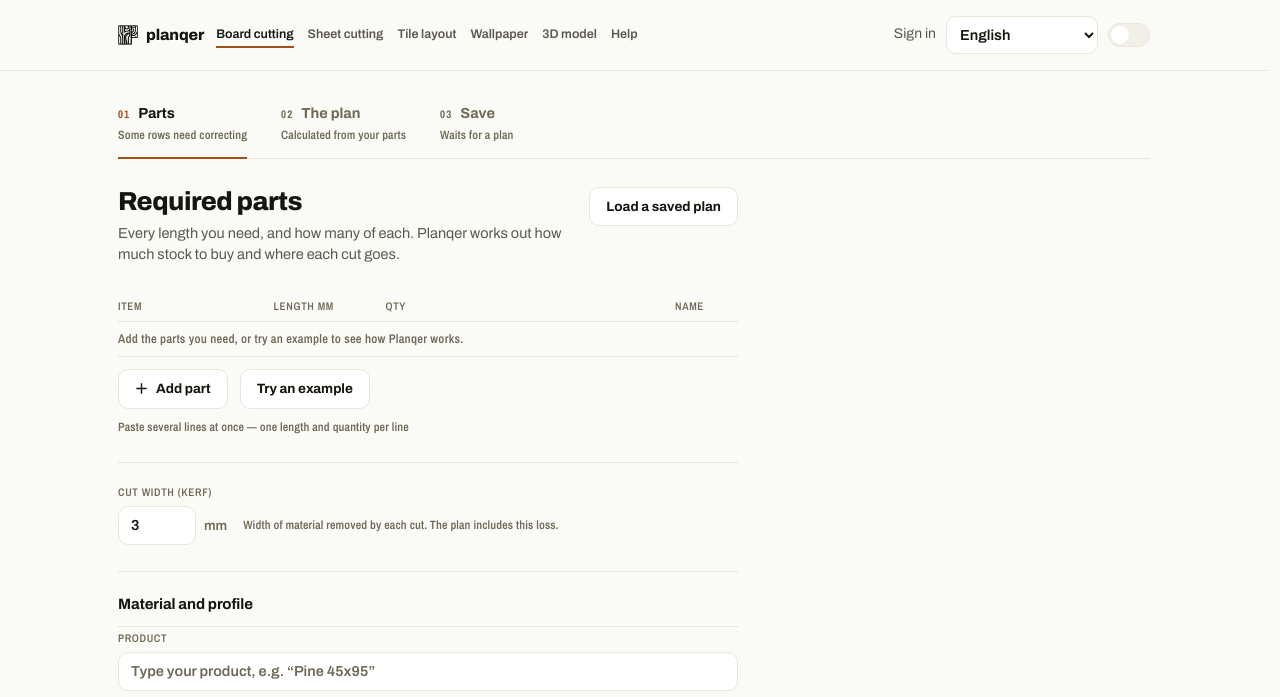
CuttingOptimizer › keeps new part rows stable and attaches errors to the correct field
Expected: the heading "Required parts" is shown, [118,187,302,215]
Click the button "Add part" at coordinates (173, 389), box [118,369,228,409]
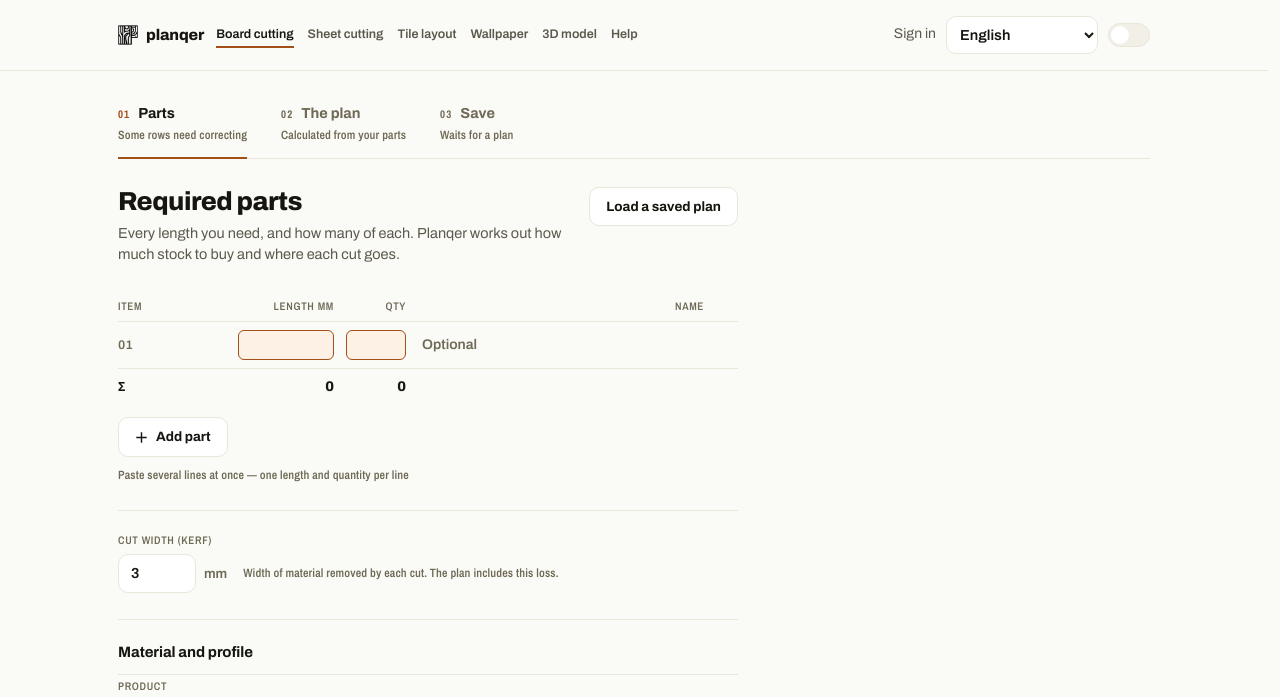
Expected: the text "must be a positive" is not shown
Type "60" into the number field named "Part length in millimetres, item 1" at coordinates (286, 345), box [238,330,334,360]
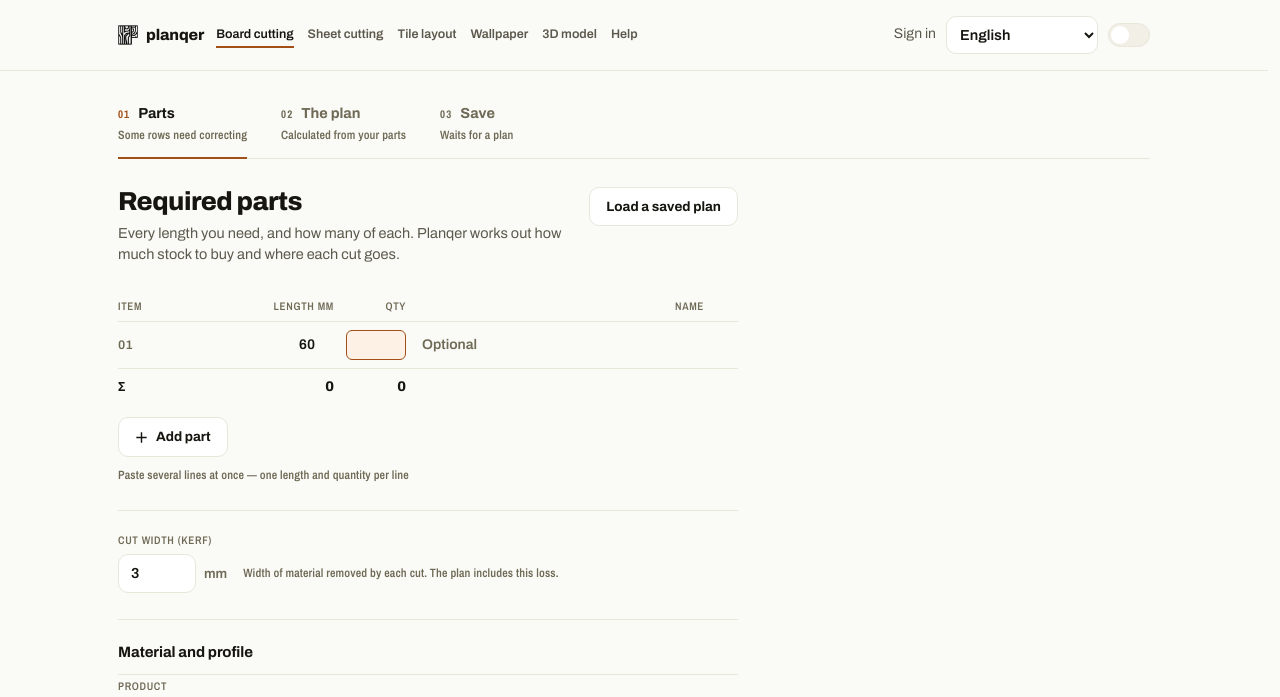
Type "5" into the number field named "Quantity, item 1" at coordinates (376, 345), box [346,330,406,360]
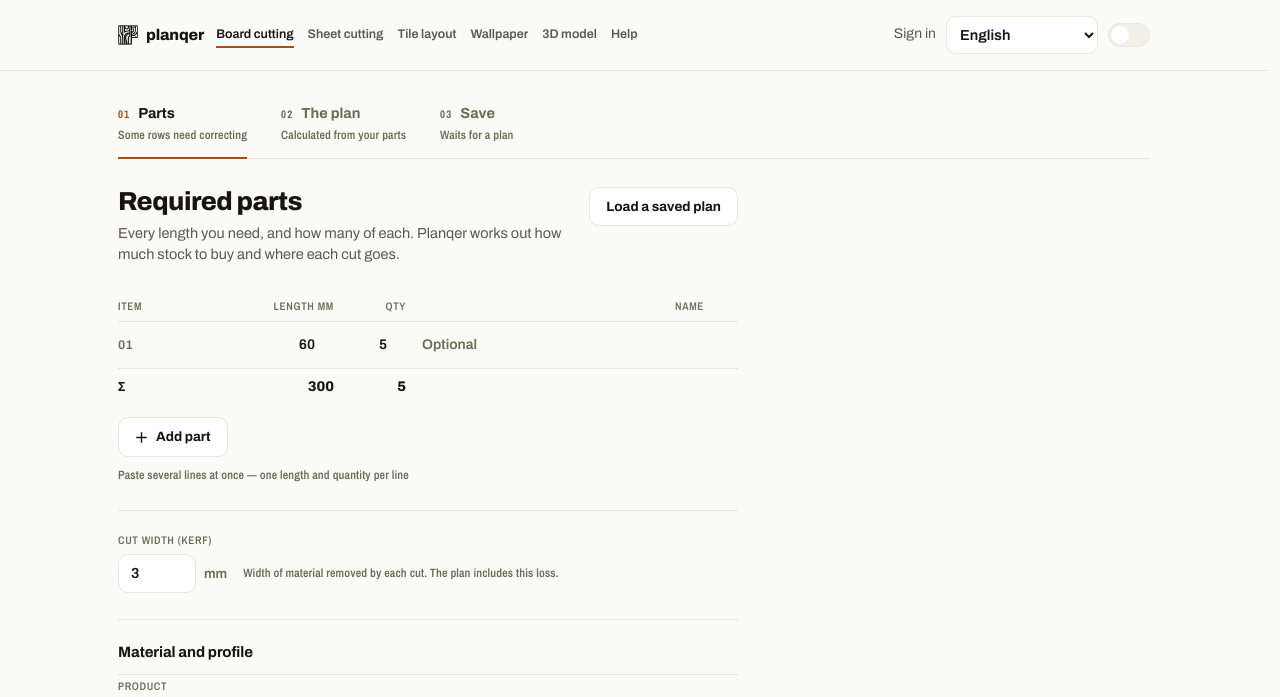
Result: the number field named "Part length in millimetres, item 1" does not have class "is-required-empty" at [238,330,334,360]
Result: the number field named "Quantity, item 1" does not have class "is-required-empty"
Replace the text in the number field named "Quantity, item 1" with "1.5" at coordinates (376, 345), box [346,330,406,360]
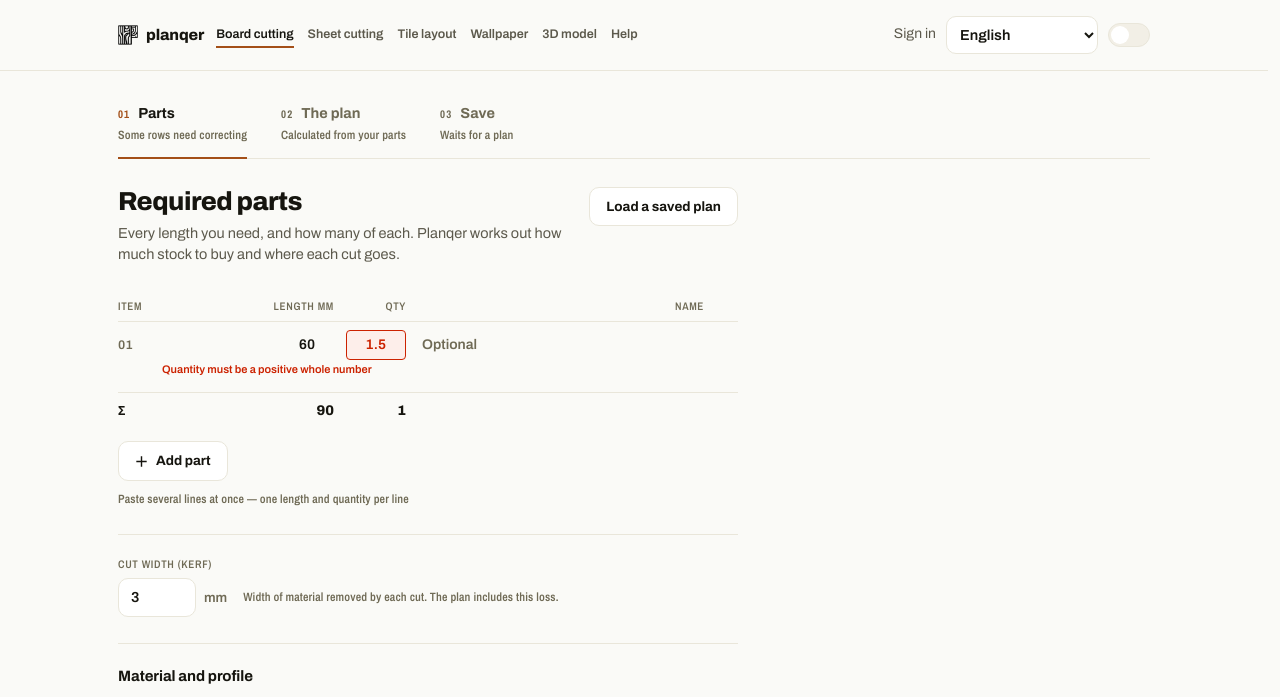
Result: the message reads "Quantity must be a positive whole number" at [162,363,372,375]
